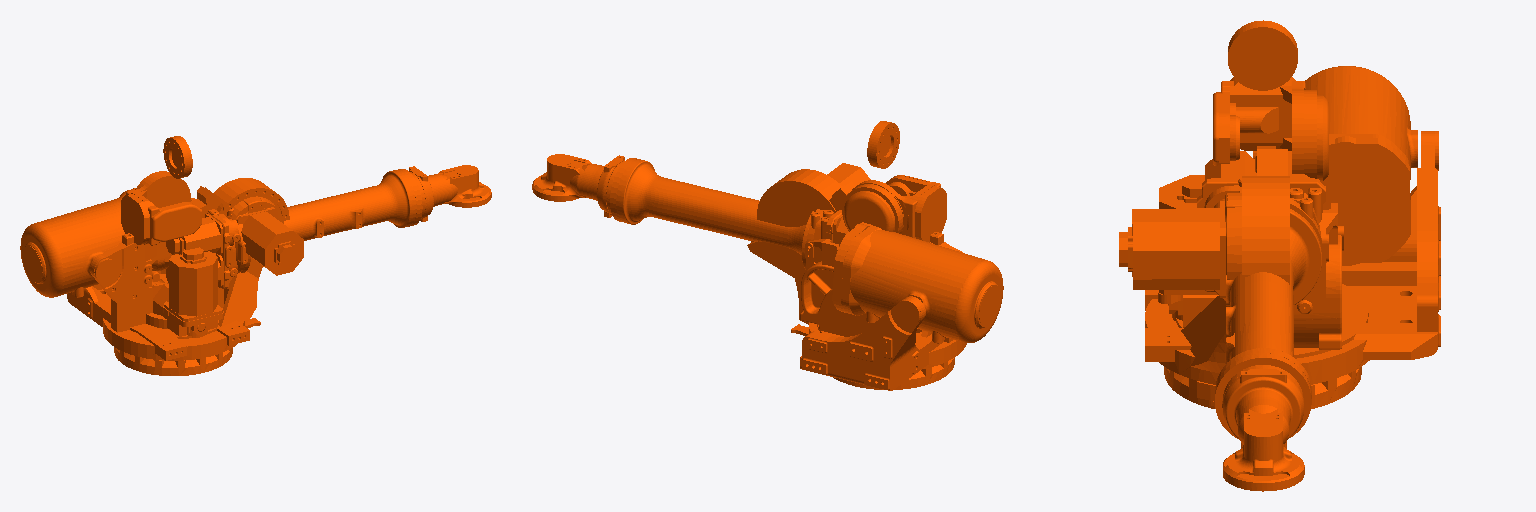
URDF robot description (iiwa14):
<?xml version="1.0" ?>
<!-- =================================================================================== -->
<!-- |    This document was autogenerated by xacro from iiwa14.urdf.xacro              | -->
<!-- |    EDITING THIS FILE BY HAND IS NOT RECOMMENDED                                 | -->
<!-- =================================================================================== -->
<robot name="iiwa14" xmlns:xacro="http://www.ros.org/wiki/xacro">
  <material name="Black">
    <color rgba="0.0 0.0 0.0 1.0"/>
  </material>
  <material name="Blue">
    <color rgba="0.0 0.0 0.8 1.0"/>
  </material>
  <material name="Green">
    <color rgba="0.0 0.8 0.0 1.0"/>
  </material>
  <material name="Grey">
    <color rgba="0.4 0.4 0.4 1.0"/>
  </material>
  <material name="Orange">
    <color rgba="1.0 0.423529411765 0.0392156862745 1.0"/>
  </material>
  <material name="Brown">
    <color rgba="0.870588235294 0.811764705882 0.764705882353 1.0"/>
  </material>
  <material name="Red">
    <color rgba="0.8 0.0 0.0 1.0"/>
  </material>
  <material name="White">
    <color rgba="1.0 1.0 1.0 1.0"/>
  </material>

  <link name="iiwa14_link_0">
    <inertial>
      <origin rpy="0 0 0" xyz="-0.1 0 0.07"/>
      <mass value="5"/>
      <inertia ixx="0.05" ixy="0" ixz="0" iyy="0.06" iyz="0" izz="0.03"/>
    </inertial>
    <visual>
      <origin rpy="0 0 0" xyz="0 0 0"/>
      <geometry>
        <mesh filename="meshes/visual/link_0.stl"/>
      </geometry>
      <material name="Grey">
        <color rgba="0.4 0.4 0.4 1.0"/>
      </material>
    </visual>
    <collision>
      <origin rpy="0 0 0" xyz="0 0 0"/>
      <geometry>
        <mesh filename="meshes/collision/link_0.stl"/>
      </geometry>
      <material name="Grey">
        <color rgba="0.4 0.4 0.4 1.0"/>
      </material>
    </collision>
    <self_collision_checking>
      <origin rpy="0 0 0" xyz="0 0 0"/>
      <geometry>
        <capsule length="0.25" radius="0.15"/>
      </geometry>
    </self_collision_checking>
  </link>

  <link name="iiwa14_pedestal">
    <visual>
      <origin rpy="1.57079632679 0 -1.57079632679" xyz="0.26 0.345 -0.91488"/>
      <geometry>
        <mesh filename="meshes/iiwa14_pedestal/pedestal.STL"/>
      </geometry>
      <material name="darkgray">
        <color rgba=".2 .2 .2 1"/>
      </material>
    </visual>
    <collision>
      <origin rpy="0 0 0" xyz="-0.02 0 -0.29"/>
      <geometry>
        <cylinder length="0.62" radius="0.18"/>
      </geometry>
    </collision>
    <inertial>
      <origin rpy="0 0 0" xyz="0 0 -0.5"/>
      <mass value="60.86397744"/>
      <inertia ixx="5.0635929" ixy="0.00103417" ixz="0.80199628" iyy="6.08689388" iyz="0.00105311" izz="4.96191932"/>
    </inertial>
  </link>

  <joint name="iiwa14_pedestal_fixed" type="fixed">
    <origin rpy="0 0 0" xyz="0.0 0.0 0.0"/>
    <parent link="iiwa14_link_0"/>
    <child link="iiwa14_pedestal"/>
  </joint>  

  <link name="iiwa14_controller_box">
    <collision>
      <origin rpy="0 0 0" xyz="-0.325 0 -0.38"/>
      <geometry>
        <box size="0.22 0.4 0.53"/>
      </geometry>
    </collision>
  </link>

  <joint name="iiwa14_controller_box_fixed" type="fixed">
    <origin rpy="0 0 0" xyz="0.0 0.0 0.0"/>
    <parent link="iiwa14_link_0"/>
    <child link="iiwa14_controller_box"/>
  </joint>

  <link name="iiwa14_pedestal_feet">
    <collision>
      <origin rpy="0 0 0" xyz="-0.1225 0 -0.758"/>
      <geometry>
        <box size="0.77 0.7 0.31"/>
      </geometry>
    </collision>
  </link>

  <joint name="iiwa14_pedestal_feet_fixed" type="fixed">
    <origin rpy="0 0 0" xyz="0.0 0.0 0.0"/>
    <parent link="iiwa14_link_0"/>
    <child link="iiwa14_pedestal_feet"/>
  </joint>


  <!-- joint between link_0 and link_1 -->
  <joint name="iiwa14_joint_1" type="revolute">
    <parent link="iiwa14_link_0"/>
    <child link="iiwa14_link_1"/>
    <origin rpy="0 0 0" xyz="0 0 0.1575"/>
    <axis xyz="0 0 1"/>
    <limit effort="300" lower="-2.96705972839" upper="2.96705972839" velocity="10"/>
    <safety_controller k_position="100" k_velocity="2" soft_lower_limit="-2.93215314335" soft_upper_limit="2.93215314335"/>
    <dynamics damping="0.5"/>
  </joint>
  <link name="iiwa14_link_1">
    <inertial>
      <origin rpy="0 0 0" xyz="0 -0.03 0.12"/>
      <mass value="4"/>
      <inertia ixx="0.1" ixy="0" ixz="0" iyy="0.09" iyz="0" izz="0.02"/>
    </inertial>
    <visual>
      <origin rpy="0 0 0" xyz="0 0 0"/>
      <geometry>
        <mesh filename="meshes/visual/link_1.stl"/>
      </geometry>
      <material name="Orange">
        <color rgba="1.0 0.423529411765 0.0392156862745 1.0"/>
      </material>
    </visual>
    <collision>
      <origin rpy="0 0 0" xyz="0 0 0"/>
      <geometry>
        <mesh filename="meshes/collision/link_1.stl"/>
      </geometry>
      <material name="Orange">
        <color rgba="1.0 0.423529411765 0.0392156862745 1.0"/>
      </material>
    </collision>
  </link>
  <!-- joint between link_1 and link_2 -->
  <joint name="iiwa14_joint_2" type="revolute">
    <parent link="iiwa14_link_1"/>
    <child link="iiwa14_link_2"/>
    <origin rpy="1.57079632679   0 3.14159265359" xyz="0 0 0.2025"/>
    <axis xyz="0 0 1"/>
    <limit effort="300" lower="-2.09439510239" upper="2.09439510239" velocity="10"/>
    <safety_controller k_position="100" k_velocity="2" soft_lower_limit="-2.05948851735" soft_upper_limit="2.05948851735"/>
    <dynamics damping="0.5"/>
  </joint>
  <link name="iiwa14_link_2">
    <inertial>
      <origin rpy="0 0 0" xyz="0.0003 0.059 0.042"/>
      <mass value="4"/>
      <inertia ixx="0.05" ixy="0" ixz="0" iyy="0.018" iyz="0" izz="0.044"/>
    </inertial>
    <visual>
      <origin rpy="0 0 0" xyz="0 0 0"/>
      <geometry>
        <mesh filename="meshes/visual/link_2.stl"/>
      </geometry>
      <material name="Orange">
        <color rgba="1.0 0.423529411765 0.0392156862745 1.0"/>
      </material>
    </visual>
    <collision>
      <origin rpy="0 0 0" xyz="0 0 0"/>
      <geometry>
        <mesh filename="meshes/collision/link_2.stl"/>
      </geometry>
      <material name="Orange">
        <color rgba="1.0 0.423529411765 0.0392156862745 1.0"/>
      </material>
    </collision>
  </link>
  <!-- joint between link_2 and link_3 -->
  <joint name="iiwa14_joint_3" type="revolute">
    <parent link="iiwa14_link_2"/>
    <child link="iiwa14_link_3"/>
    <origin rpy="1.57079632679 0 3.14159265359" xyz="0 0.2045 0"/>
    <axis xyz="0 0 1"/>
    <limit effort="300" lower="-2.96705972839" upper="2.96705972839" velocity="10"/>
    <safety_controller k_position="100" k_velocity="2" soft_lower_limit="-2.93215314335" soft_upper_limit="2.93215314335"/>
    <dynamics damping="0.5"/>
  </joint>
  <link name="iiwa14_link_3">
    <inertial>
      <origin rpy="0 0 0" xyz="0 0.03 0.13"/>
      <mass value="3"/>
      <inertia ixx="0.08" ixy="0" ixz="0" iyy="0.075" iyz="0" izz="0.01"/>
    </inertial>
    <visual>
      <origin rpy="0 0 0" xyz="0 0 0"/>
      <geometry>
        <mesh filename="meshes/visual/link_3.stl"/>
      </geometry>
      <material name="Orange">
        <color rgba="1.0 0.423529411765 0.0392156862745 1.0"/>
      </material>
    </visual>
    <collision>
      <origin rpy="0 0 0" xyz="0 0 0"/>
      <geometry>
        <mesh filename="meshes/collision/link_3.stl"/>
      </geometry>
      <material name="Orange">
        <color rgba="1.0 0.423529411765 0.0392156862745 1.0"/>
      </material>
    </collision>
  </link>
  <!-- joint between link_3 and link_4 -->
  <joint name="iiwa14_joint_4" type="revolute">
    <parent link="iiwa14_link_3"/>
    <child link="iiwa14_link_4"/>
    <origin rpy="1.57079632679 0 0" xyz="0 0 0.2155"/>
    <axis xyz="0 0 1"/>
    <limit effort="300" lower="-2.09439510239" upper="2.09439510239" velocity="10"/>
    <safety_controller k_position="100" k_velocity="2" soft_lower_limit="-2.05948851735" soft_upper_limit="2.05948851735"/>
    <dynamics damping="0.5"/>
  </joint>
  <link name="iiwa14_link_4">
    <inertial>
      <origin rpy="0 0 0" xyz="0 0.067 0.034"/>
      <mass value="2.7"/>
      <inertia ixx="0.03" ixy="0" ixz="0" iyy="0.01" iyz="0" izz="0.029"/>
    </inertial>
    <visual>
      <origin rpy="0 0 0" xyz="0 0 0"/>
      <geometry>
        <mesh filename="meshes/visual/link_4.stl"/>
      </geometry>
      <material name="Orange">
        <color rgba="1.0 0.423529411765 0.0392156862745 1.0"/>
      </material>
    </visual>
    <collision>
      <origin rpy="0 0 0" xyz="0 0 0"/>
      <geometry>
        <mesh filename="meshes/collision/link_4.stl"/>
      </geometry>
      <material name="Orange">
        <color rgba="1.0 0.423529411765 0.0392156862745 1.0"/>
      </material>
    </collision>
  </link>
  <!-- joint between link_4 and link_5 -->
  <joint name="iiwa14_joint_5" type="revolute">
    <parent link="iiwa14_link_4"/>
    <child link="iiwa14_link_5"/>
    <origin rpy="-1.57079632679 3.14159265359 0" xyz="0 0.1845 0"/>
    <axis xyz="0 0 1"/>
    <limit effort="300" lower="-2.96705972839" upper="2.96705972839" velocity="10"/>
    <safety_controller k_position="100" k_velocity="2" soft_lower_limit="-2.93215314335" soft_upper_limit="2.93215314335"/>
    <dynamics damping="0.5"/>
  </joint>
  <link name="iiwa14_link_5">
    <inertial>
      <origin rpy="0 0 0" xyz="0.0001 0.021 0.076"/>
      <mass value="1.7"/>
      <inertia ixx="0.02" ixy="0" ixz="0" iyy="0.018" iyz="0" izz="0.005"/>
    </inertial>
    <visual>
      <origin rpy="0 0 0" xyz="0 0 0"/>
      <geometry>
        <mesh filename="meshes/visual/link_5.stl"/>
      </geometry>
      <material name="Orange">
        <color rgba="1.0 0.423529411765 0.0392156862745 1.0"/>
      </material>
    </visual>
    <collision>
      <origin rpy="0 0 0" xyz="0 0 0"/>
      <geometry>
        <mesh filename="meshes/collision/link_5.stl"/>
      </geometry>
      <material name="Orange">
        <color rgba="1.0 0.423529411765 0.0392156862745 1.0"/>
      </material>
    </collision>
  </link>
  <!-- joint between link_5 and link_6 -->
  <joint name="iiwa14_joint_6" type="revolute">
    <parent link="iiwa14_link_5"/>
    <child link="iiwa14_link_6"/>
    <origin rpy="1.57079632679 0 0" xyz="0 0 0.2155"/>
    <axis xyz="0 0 1"/>
    <limit effort="300" lower="-2.09439510239" upper="2.09439510239" velocity="10"/>
    <safety_controller k_position="100" k_velocity="2" soft_lower_limit="-2.05948851735" soft_upper_limit="2.05948851735"/>
    <dynamics damping="0.5"/>
  </joint>
  <link name="iiwa14_link_6">
    <inertial>
      <origin rpy="0 0 0" xyz="0 0.0006 0.0004"/>
      <mass value="1.8"/>
      <inertia ixx="0.005" ixy="0" ixz="0" iyy="0.0036" iyz="0" izz="0.0047"/>
    </inertial>
    <visual>
      <origin rpy="0 0 0" xyz="0 0 0"/>
      <geometry>
        <mesh filename="meshes/visual/link_6.stl"/>
      </geometry>
      <material name="Orange">
        <color rgba="1.0 0.423529411765 0.0392156862745 1.0"/>
      </material>
    </visual>
    <collision>
      <origin rpy="0 0 0" xyz="0 0 0"/>
      <geometry>
        <mesh filename="meshes/collision/link_6.stl"/>
      </geometry>
      <material name="Orange">
        <color rgba="1.0 0.423529411765 0.0392156862745 1.0"/>
      </material>
    </collision>
  </link>
  <!-- joint between link_6 and link_7 -->
  <joint name="iiwa14_joint_7" type="revolute">
    <parent link="iiwa14_link_6"/>
    <child link="iiwa14_link_7"/>
    <origin rpy="-1.57079632679 3.14159265359 0" xyz="0 0.081 0"/>
    <axis xyz="0 0 1"/>
    <limit effort="300" lower="-3.05432619099" upper="3.05432619099" velocity="10"/>
    <safety_controller k_position="100" k_velocity="2" soft_lower_limit="-3.01941960595" soft_upper_limit="3.01941960595"/>
    <dynamics damping="0.5"/>
  </joint>
  <link name="iiwa14_link_7">
    <inertial>
      <origin rpy="0 0 0" xyz="0 0 0.02"/>
      <mass value="0.3"/>
      <inertia ixx="0.001" ixy="0" ixz="0" iyy="0.001" iyz="0" izz="0.001"/>
    </inertial>
    <visual>
      <origin rpy="0 0 0" xyz="0 0 0"/>
      <geometry>
        <mesh filename="meshes/visual/link_7.stl"/>
      </geometry>
      <material name="Grey">
        <color rgba="0.4 0.4 0.4 1.0"/>
      </material>
    </visual>
    <collision>
      <origin rpy="0 0 0" xyz="0 0 0"/>
      <geometry>
        <mesh filename="meshes/collision/link_7.stl"/>
      </geometry>
      <material name="Grey">
        <color rgba="0.4 0.4 0.4 1.0"/>
      </material>
    </collision>
  </link>
  <joint name="iiwa14_joint_right_hand_fixed" type="fixed">
    <parent link="iiwa14_link_7"/>
    <child link="iiwa14_right_hand"/>
    <origin rpy="0 0 0" xyz="0 0 0.045"/>
  </joint>
  <link name="iiwa14_right_hand">
    <inertial>
      <origin rpy="0 0 0" xyz="0 0 0"/>
      <mass value="0"/>
      <inertia ixx="0.0" ixy="0.0" ixz="0.0" iyy="0.0" iyz="0.0" izz="0.0"/>
    </inertial>
  </link>
</robot>

--- What the picture shows (computed from the rendered views, not written in the file) ---
3 views of the same robot in one strip: view 1: azimuth 30°, elevation 25°; view 2: azimuth 150°, elevation 25°; view 3: azimuth 270°, elevation 25° (orthographic).
Model iiwa14 with 12 links and 11 joints (7 revolute, 4 fixed), rooted at iiwa14_link_0, posed every joint at zero.
Links seen in each view (by area): view 1: iiwa14_link_1, iiwa14_link_4, iiwa14_link_5, iiwa14_link_3, iiwa14_link_6; view 2: iiwa14_link_1, iiwa14_link_4, iiwa14_link_5, iiwa14_link_3, iiwa14_link_6; view 3: iiwa14_link_1, iiwa14_link_4, iiwa14_link_3, iiwa14_link_5, iiwa14_link_6.
Boxes of the visible links, x1,y1,x2,y2 form: iiwa14_link_1: (20,178,303,375); iiwa14_link_4: (241,165,491,272); iiwa14_link_5: (121,171,201,245); iiwa14_link_3: (152,198,247,336); iiwa14_link_6: (163,136,192,178); iiwa14_link_1: (747,163,1003,390); iiwa14_link_4: (532,154,813,269); iiwa14_link_5: (842,175,946,242); iiwa14_link_3: (800,209,879,336); iiwa14_link_6: (867,121,899,168); iiwa14_link_1: (1119,66,1440,408); iiwa14_link_4: (1214,209,1321,491); iiwa14_link_3: (1169,151,1343,349); iiwa14_link_5: (1213,77,1328,180); iiwa14_link_6: (1228,20,1297,90).
Size in the robot's own frame: 1.89 by 0.7349 by 0.8863 metres.
Meshes: 9 distinct files referenced, 5 mesh visuals loaded (5 binary STL); not drawn: 4 (reference not matched to a file when rendering).